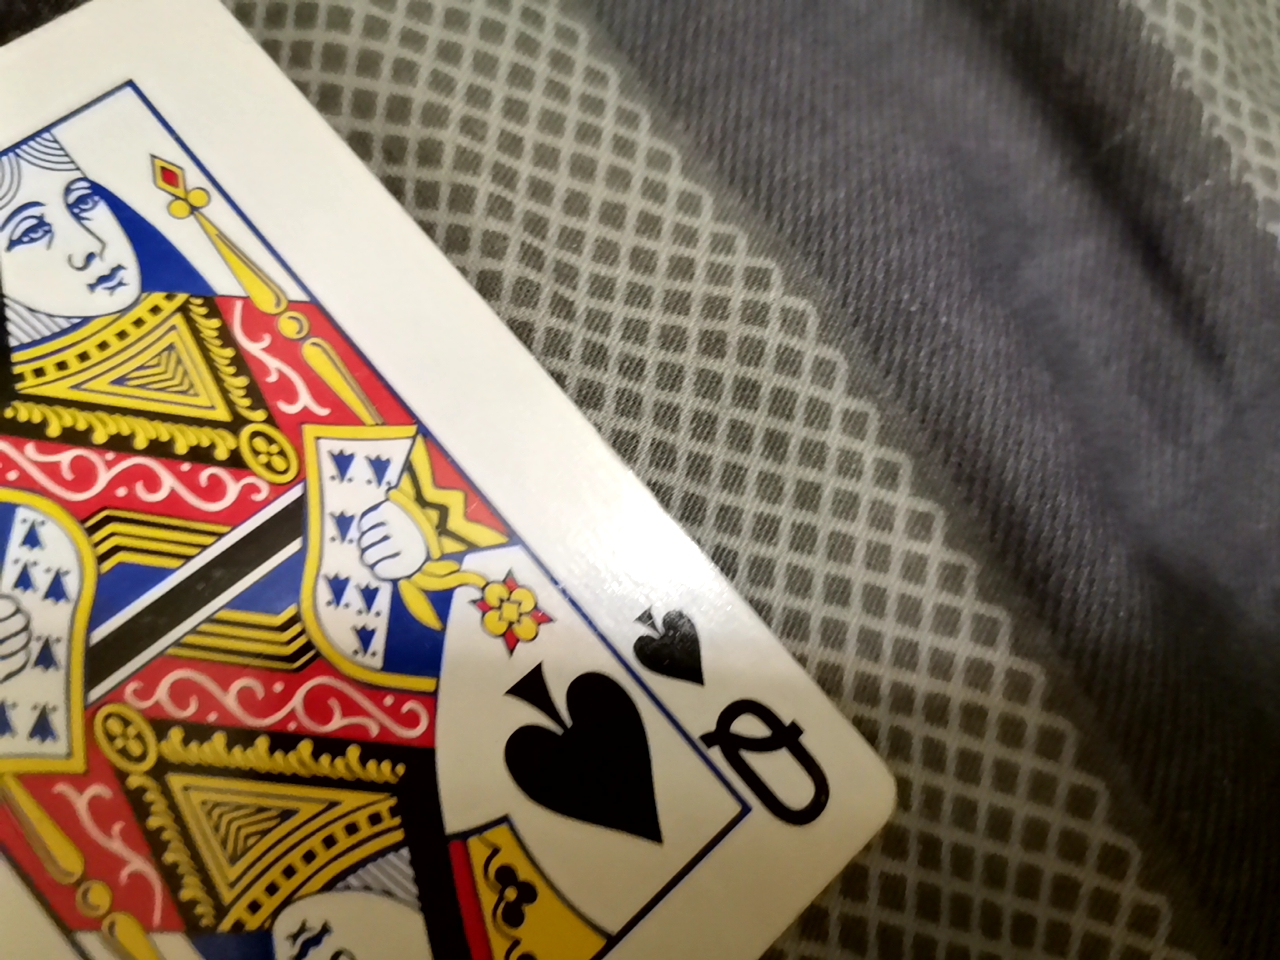ht q: (10, 4, 880, 960)
